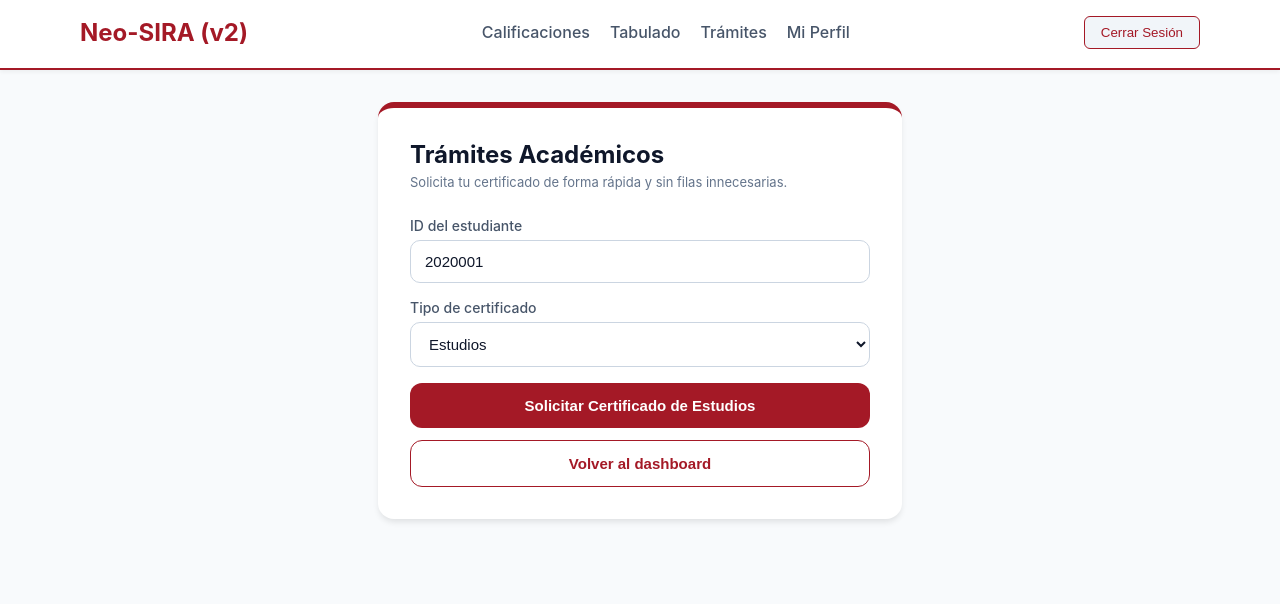
Test: Componente Tramites › muestra error si el backend responde con fallo
Replace the text in the field with test id "tramites-student-id" with "2020456". click: (640, 261)
box: [410,240,870,282]
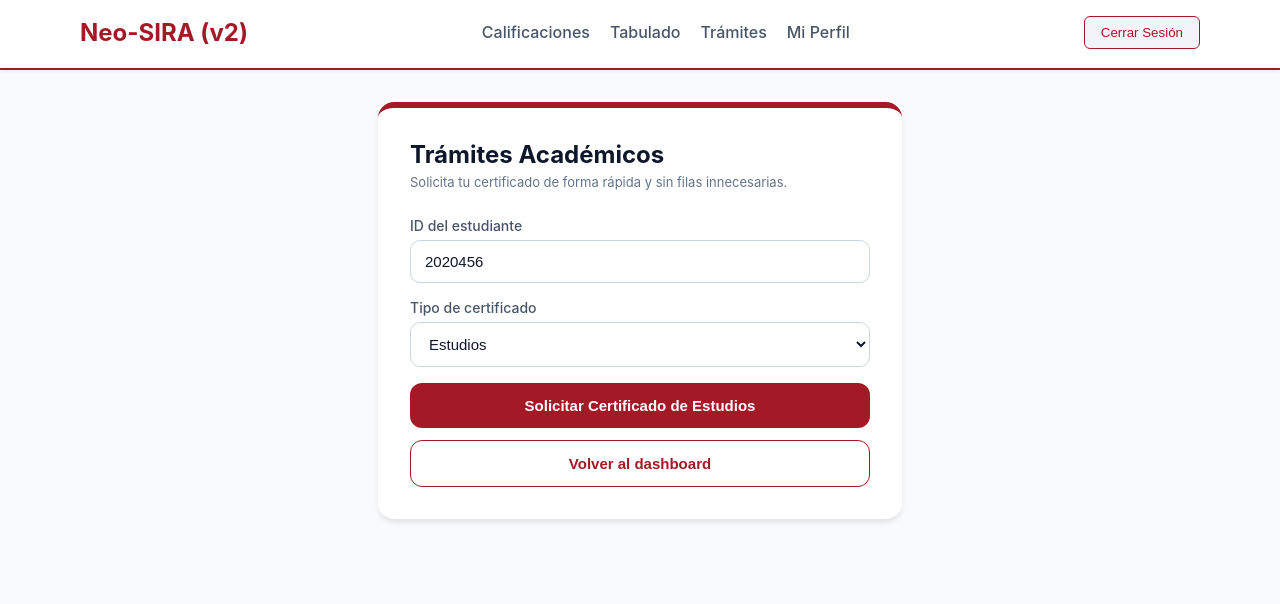
Select "Notas" in the dropdown with test id "tramites-certificate-type". click: (640, 344)
box: [410,322,870,366]
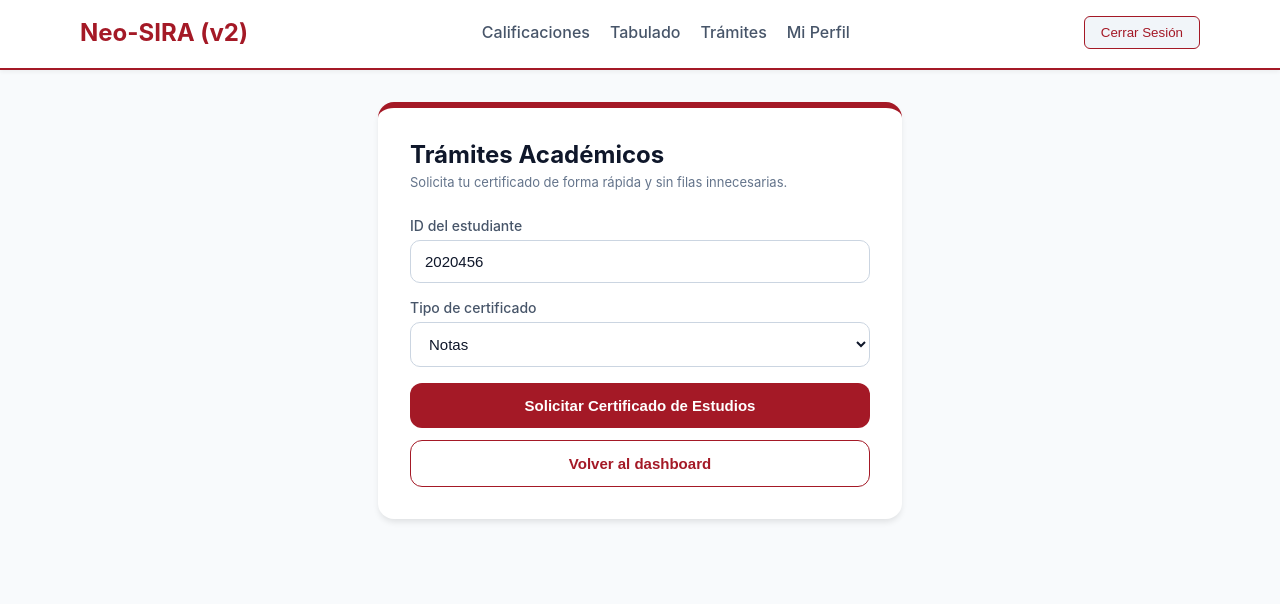
Click the button with test id "tramites-submit". click: (640, 405)
box: [410,382,870,428]
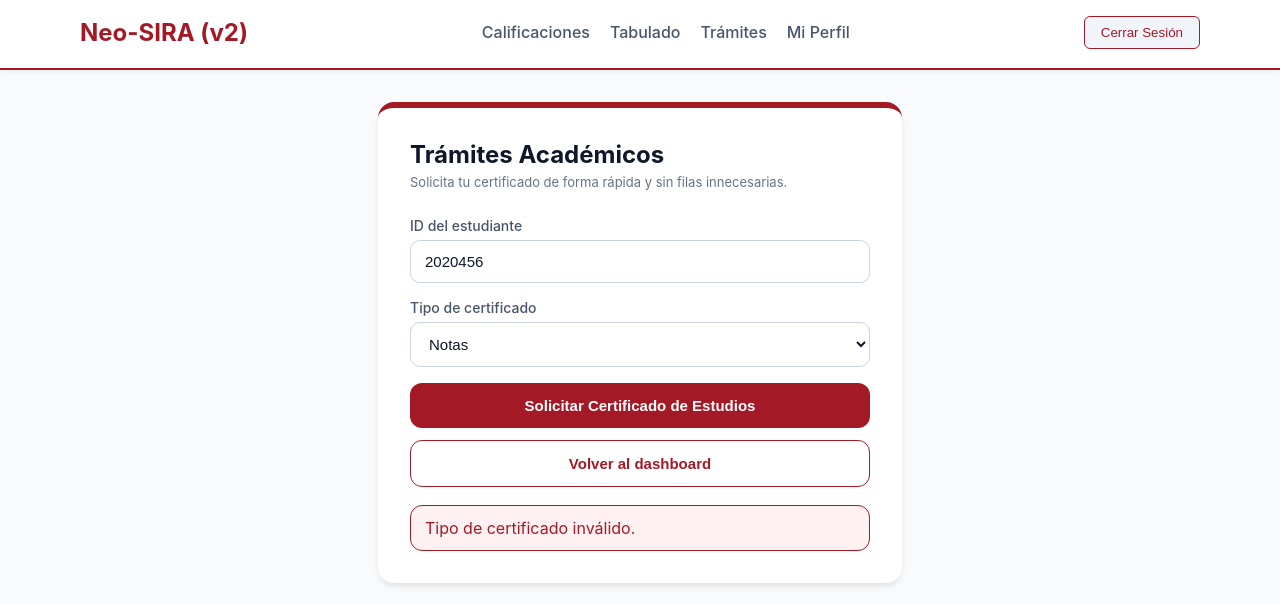
Check: the message with test id "tramites-message" reads "Tipo de certificado inválido.", box [425,518,635,538]
